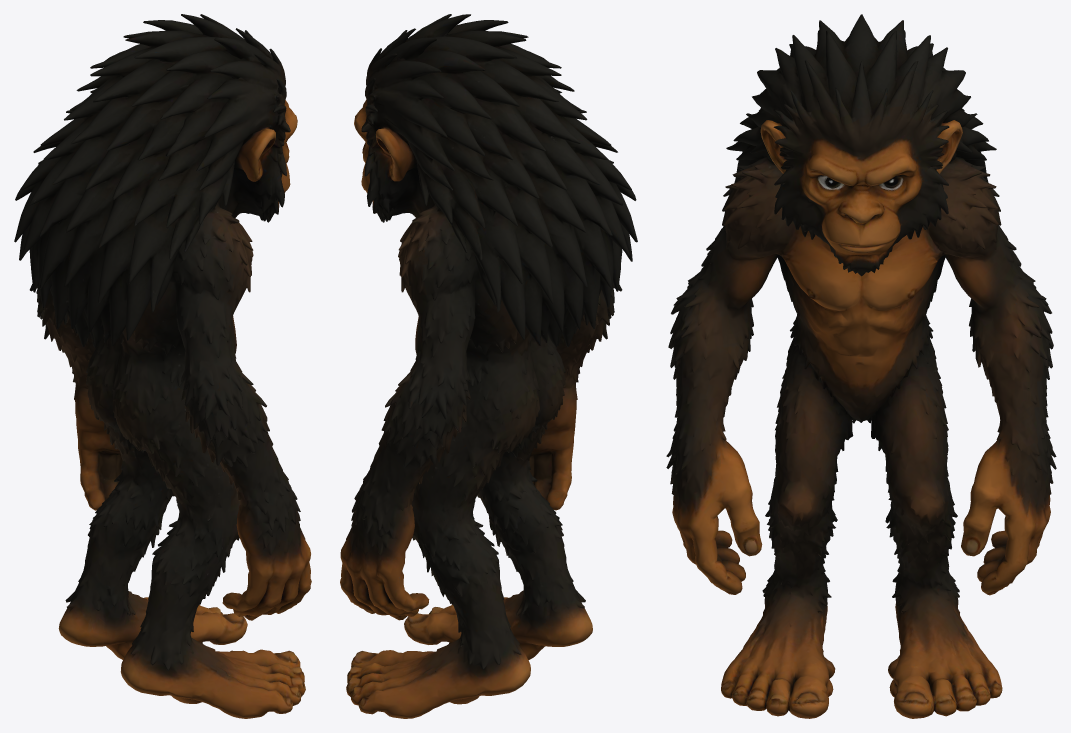
The model's file is UPB.glb.
3 renders of one model, left to right at view 1: azimuth 30°, elevation 25°; view 2: azimuth 150°, elevation 25°; view 3: azimuth 270°, elevation 25°, orthographic.
Parts seen in each view (by area): view 1: tripo_node_1832056f-be4d-4b1e-a9ed-88219098aa77; view 2: tripo_node_1832056f-be4d-4b1e-a9ed-88219098aa77; view 3: tripo_node_1832056f-be4d-4b1e-a9ed-88219098aa77.
Boxes of the visible parts, x1,y1,x2,y2 form: tripo_node_1832056f-be4d-4b1e-a9ed-88219098aa77: (14, 14, 311, 718); tripo_node_1832056f-be4d-4b1e-a9ed-88219098aa77: (340, 14, 637, 718); tripo_node_1832056f-be4d-4b1e-a9ed-88219098aa77: (666, 14, 1056, 718).
Bounding box in the file's own units: 0.399 × 1 × 0.5356.
1 material, 1 textured.
